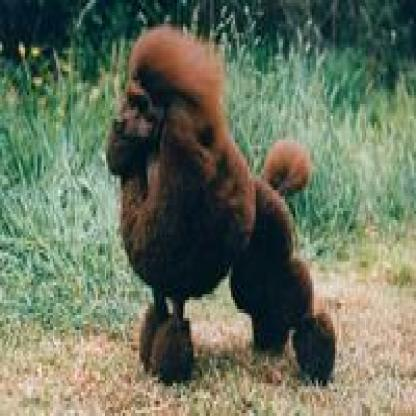standard_poodle: (95, 23, 338, 384)
